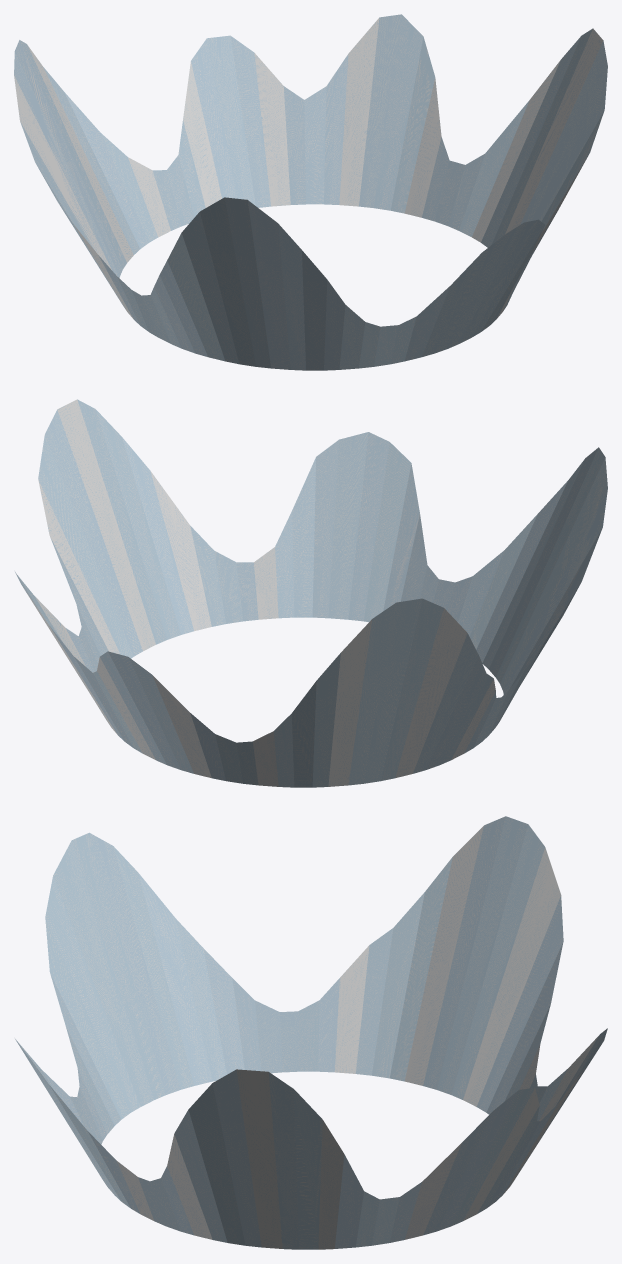
File: Prop_Showcase_Splash.fbx
3 renders of one model, top to bottom at view 1: azimuth 30°, elevation 25°; view 2: azimuth 150°, elevation 25°; view 3: azimuth 270°, elevation 25°, orthographic. The views are drawn at different scales.
Visible parts, largest first — view 1: Item_Splash; view 2: Item_Splash; view 3: Item_Splash.
Part boxes in pixels (x1=…): Item_Splash: x1=14, y1=14, x2=607, y2=370; Item_Splash: x1=15, y1=399, x2=607, y2=787; Item_Splash: x1=15, y1=816, x2=607, y2=1249.
Size of the model in its own units: 206 by 88.99 by 203.
